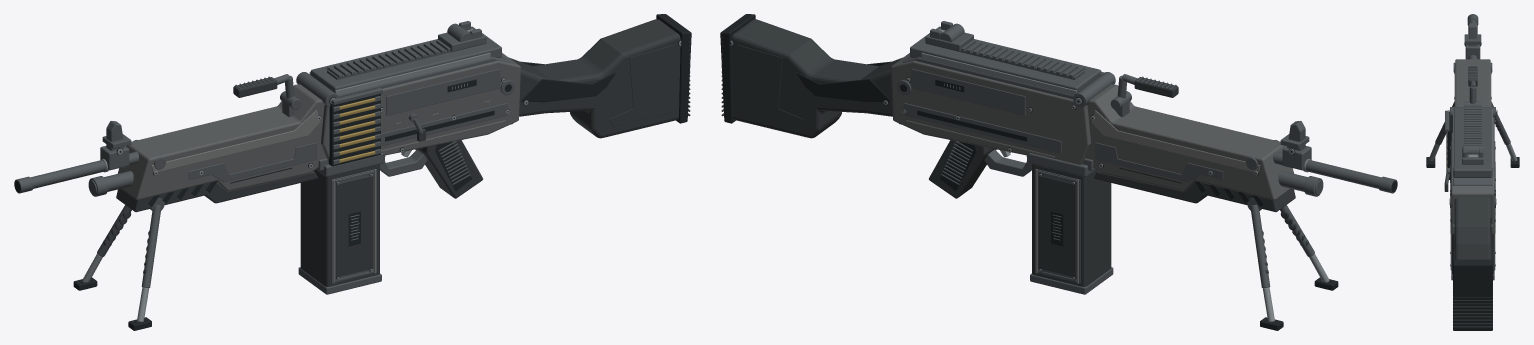
3 renders of one model, left to right at view 1: azimuth 30°, elevation 25°; view 2: azimuth 150°, elevation 25°; view 3: azimuth 270°, elevation 25°, orthographic. The views are drawn at different scales.
Visible parts, largest first — view 1: part_handguard_surfaces, part_stock_surfaces, part_receiver_surfaces, part_box_surfaces, part_top_cover_surfaces, part_trim_surfaces, part_front_surfaces, part_grip_surfaces, part_bipod_surfaces; view 2: part_handguard_surfaces, part_stock_surfaces, part_receiver_surfaces, part_box_surfaces, part_top_cover_surfaces, part_front_surfaces, part_grip_surfaces, part_bipod_surfaces; view 3: part_stock_surfaces, part_top_cover_surfaces, part_receiver_surfaces, part_handguard_surfaces, part_bipod_surfaces, part_front_surfaces, part_trim_surfaces, part_box_surfaces.
Part boxes in pixels (box(x1,y1,x2,y2)): part_handguard_surfaces: box(116, 84, 325, 212); part_stock_surfaces: box(509, 14, 691, 138); part_receiver_surfaces: box(317, 53, 520, 170); part_box_surfaces: box(298, 153, 383, 294); part_top_cover_surfaces: box(233, 21, 501, 117); part_trim_surfaces: box(328, 87, 490, 166); part_front_surfaces: box(14, 121, 138, 196); part_grip_surfaces: box(380, 140, 482, 198); part_bipod_surfaces: box(73, 198, 164, 330); part_handguard_surfaces: box(1086, 84, 1295, 212); part_stock_surfaces: box(720, 14, 902, 138); part_receiver_surfaces: box(891, 53, 1094, 170); part_box_surfaces: box(1028, 153, 1113, 294); part_top_cover_surfaces: box(910, 21, 1178, 117); part_front_surfaces: box(1273, 121, 1397, 196); part_grip_surfaces: box(929, 140, 1031, 198); part_bipod_surfaces: box(1247, 198, 1338, 330); part_stock_surfaces: box(1453, 197, 1492, 330); part_top_cover_surfaces: box(1448, 66, 1497, 177); part_receiver_surfaces: box(1449, 117, 1496, 234); part_handguard_surfaces: box(1453, 59, 1492, 106); part_bipod_surfaces: box(1426, 101, 1519, 167); part_front_surfaces: box(1464, 14, 1481, 59); part_trim_surfaces: box(1444, 110, 1452, 191); part_box_surfaces: box(1450, 162, 1495, 280).
Bounding box in the file's own units: 320 × 102 × 51.
